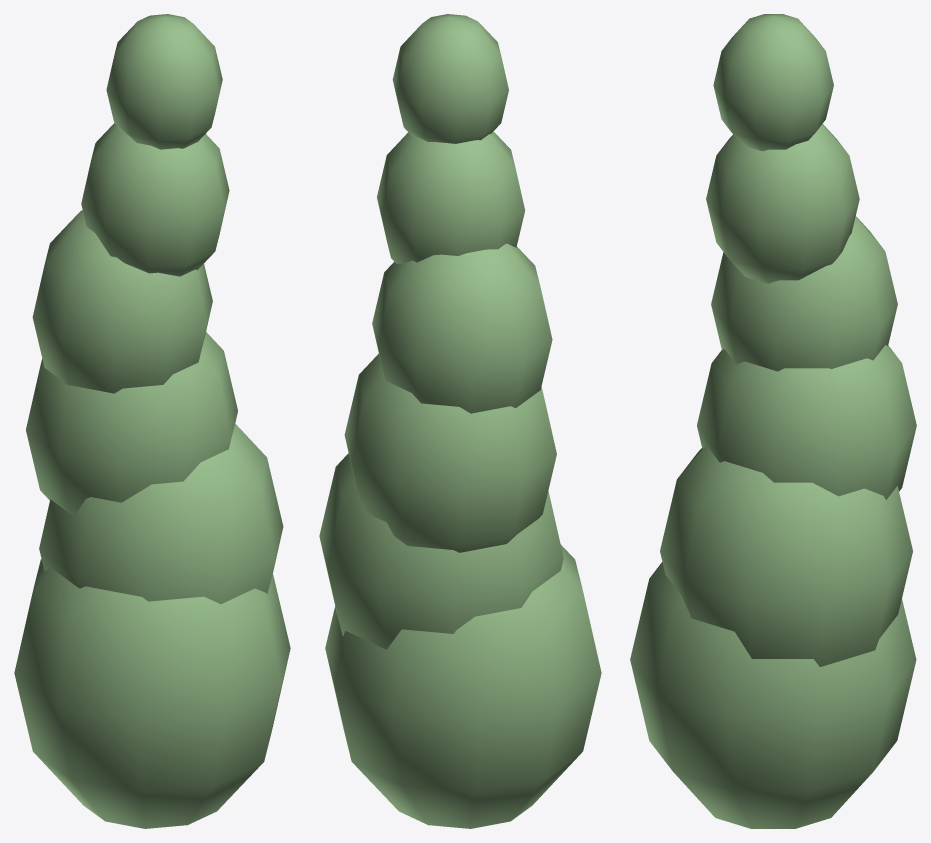
File: tree_leaves_tall.glb
3 views of the same model, side by side, from view 1: azimuth 30°, elevation 25°; view 2: azimuth 150°, elevation 25°; view 3: azimuth 270°, elevation 25° (orthographic).
Visible parts, largest first — view 1: tree_leaves_tall; view 2: tree_leaves_tall; view 3: tree_leaves_tall.
Part boxes in pixels (x1=…): tree_leaves_tall: x1=14, y1=14, x2=290, y2=828; tree_leaves_tall: x1=319, y1=14, x2=601, y2=828; tree_leaves_tall: x1=630, y1=14, x2=916, y2=828.
Size of the model in its own units: 1.82 by 5.94 by 1.9.
